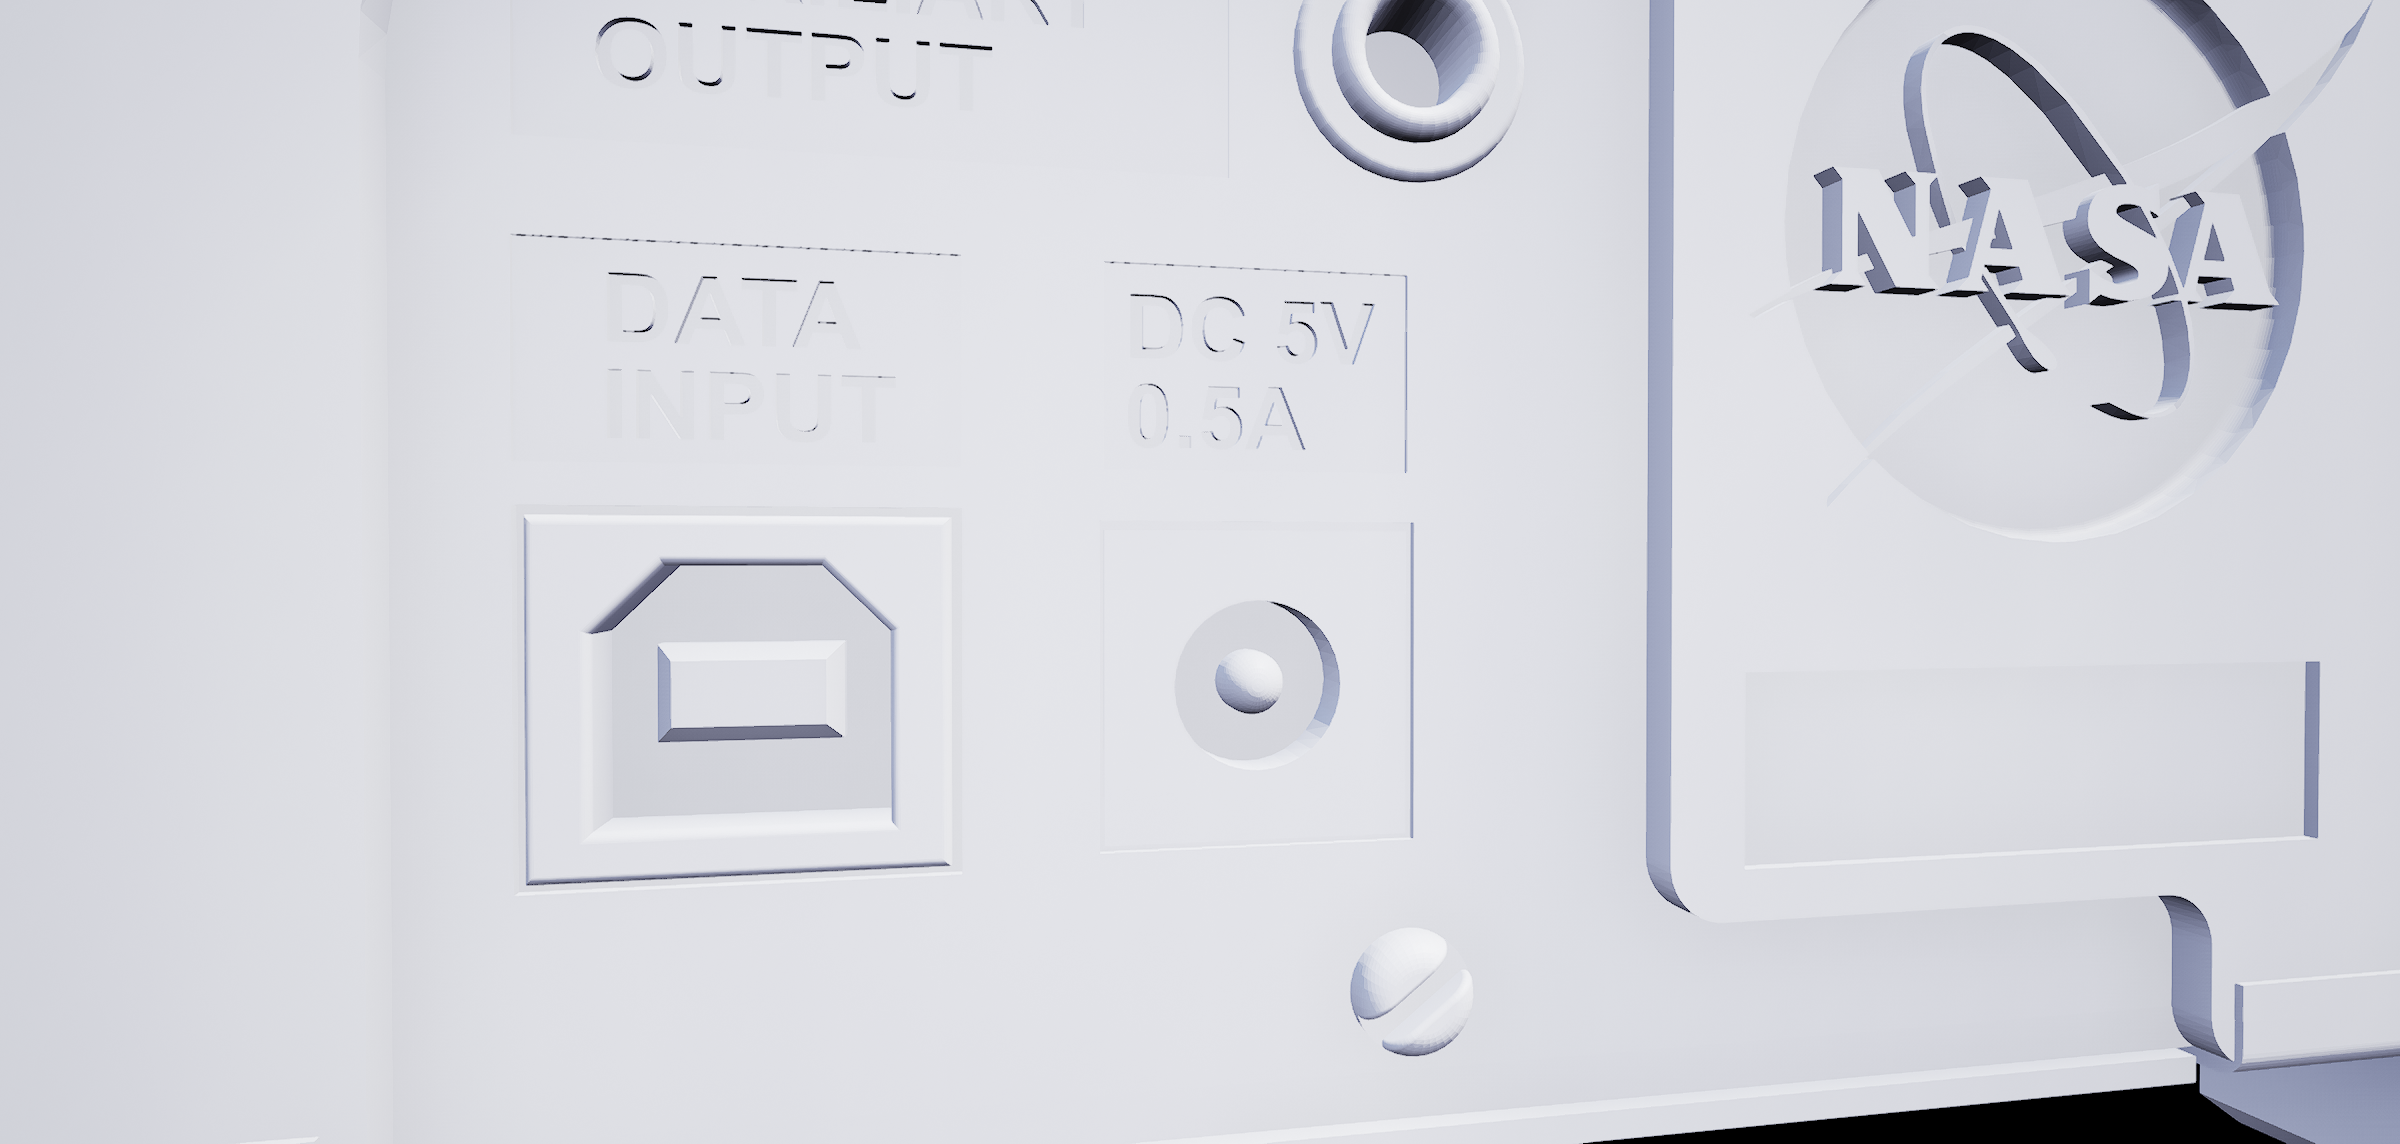aux: (1286, 2, 1541, 194)
dc: (1151, 580, 1362, 783)
usb: (572, 554, 911, 844)
